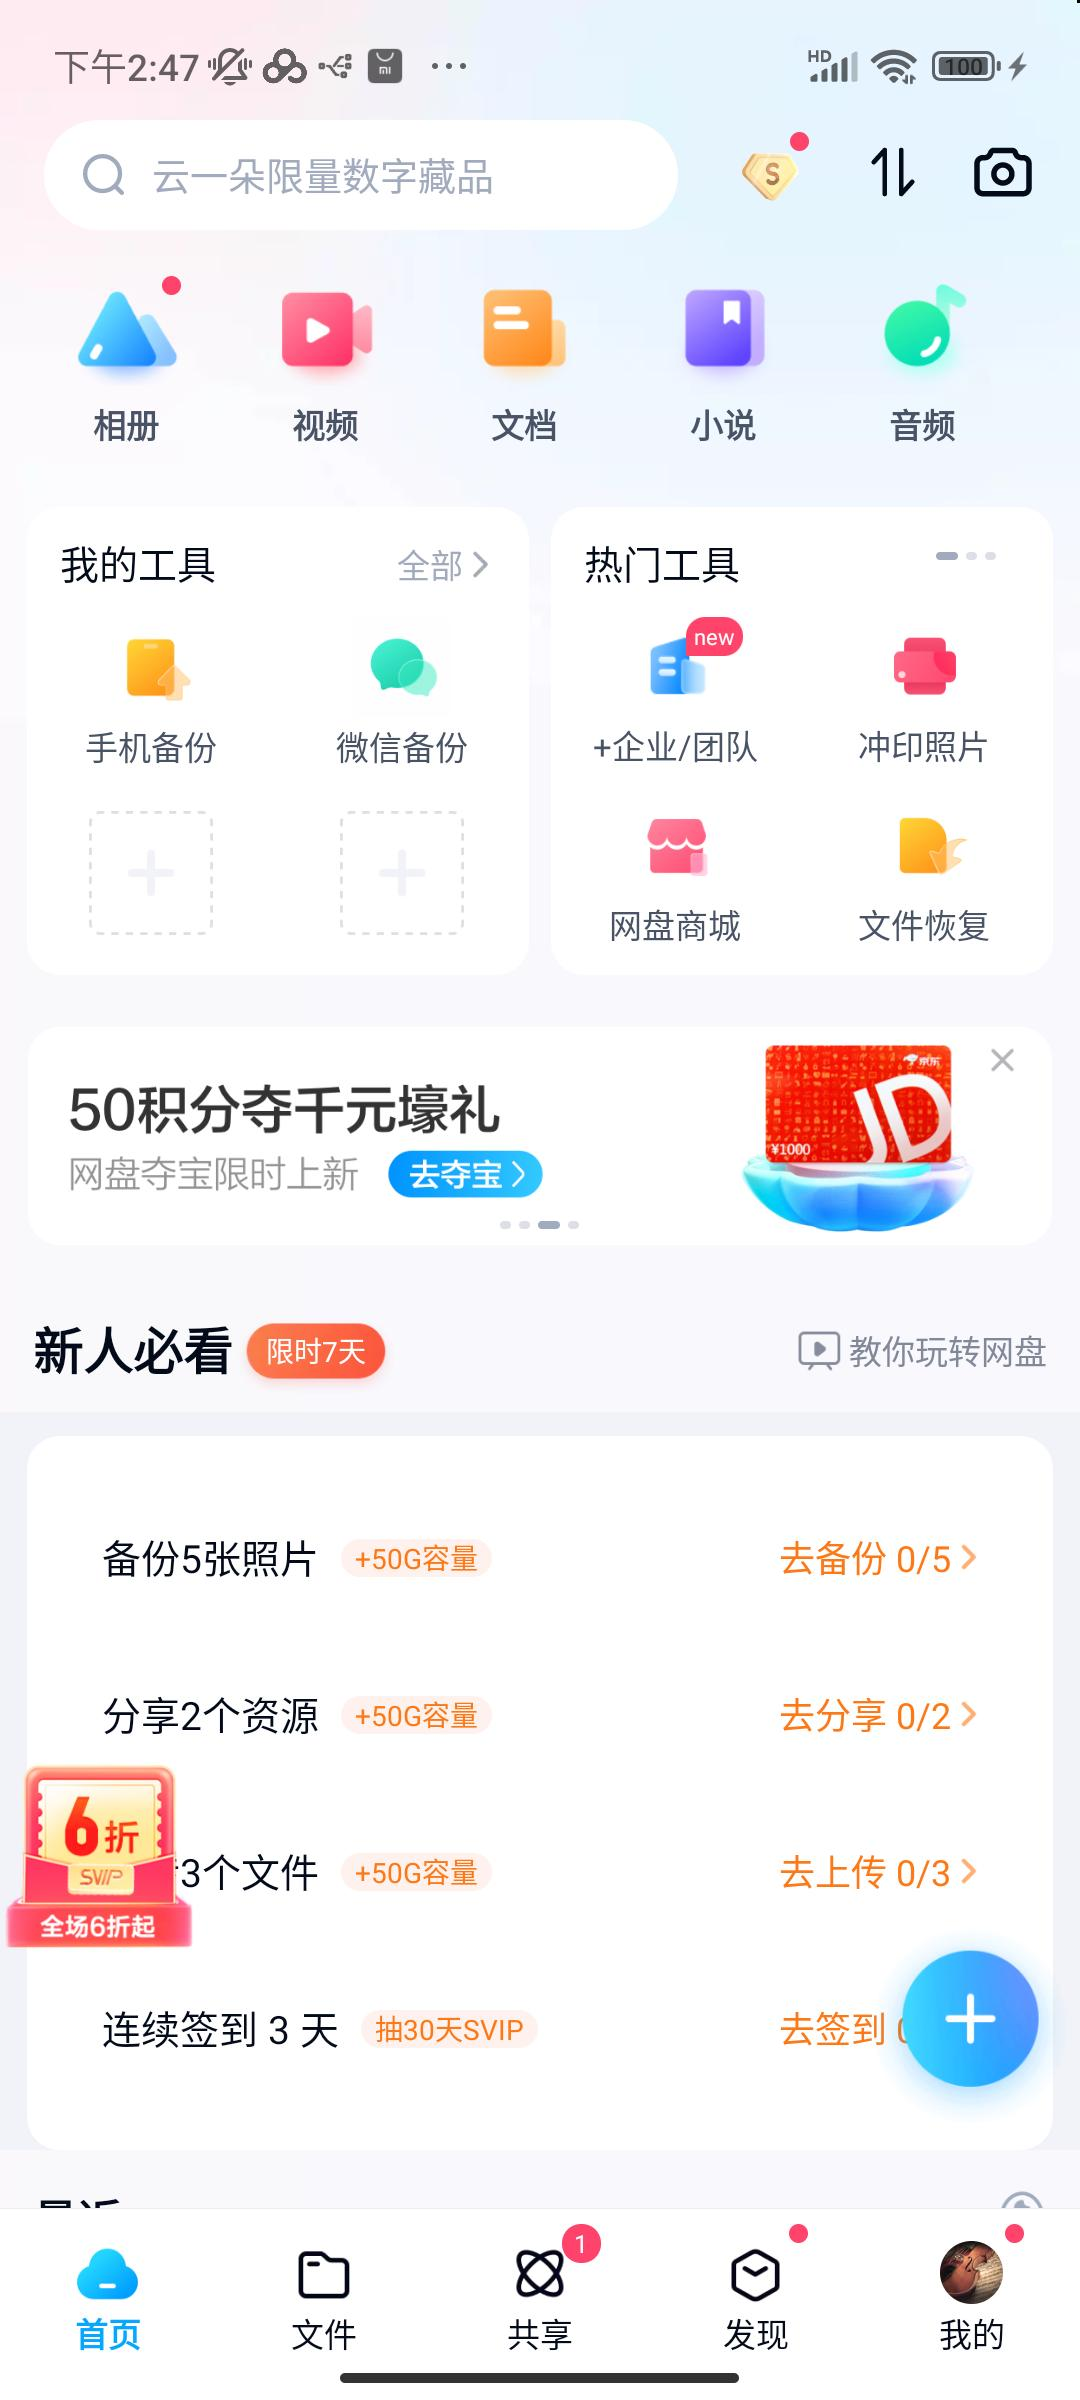ui_group: (28, 1029, 1052, 1247), (60, 1497, 1020, 1622), (61, 1645, 1023, 1769), (5, 1768, 197, 1947)
